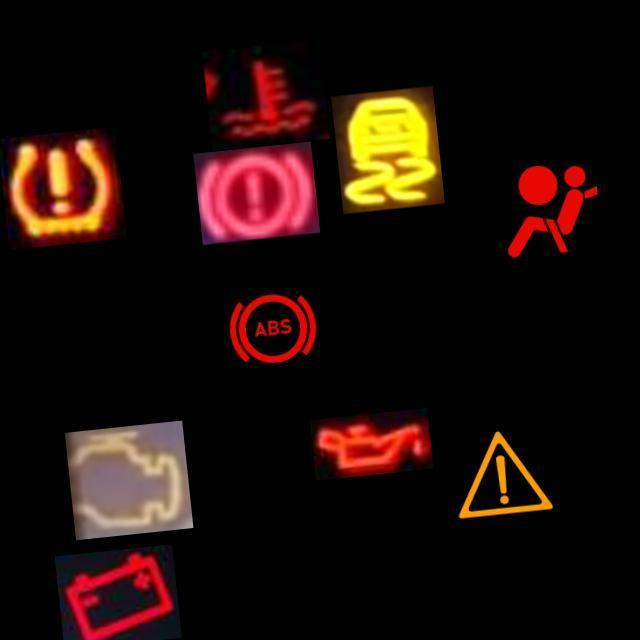Central Warning lamp: (436, 408, 566, 538)
Engine cooling system: (202, 39, 330, 150)
